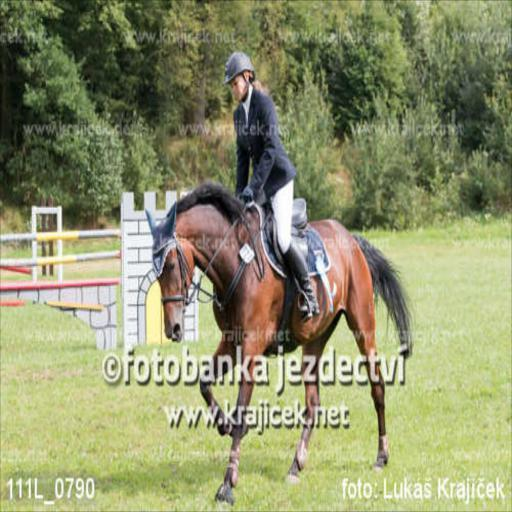horse: (144, 180, 419, 508)
